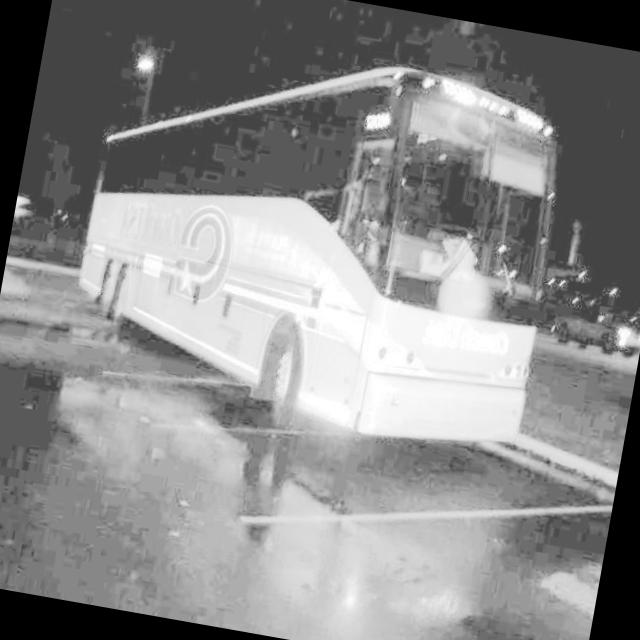Bus: (29, 0, 604, 490)
